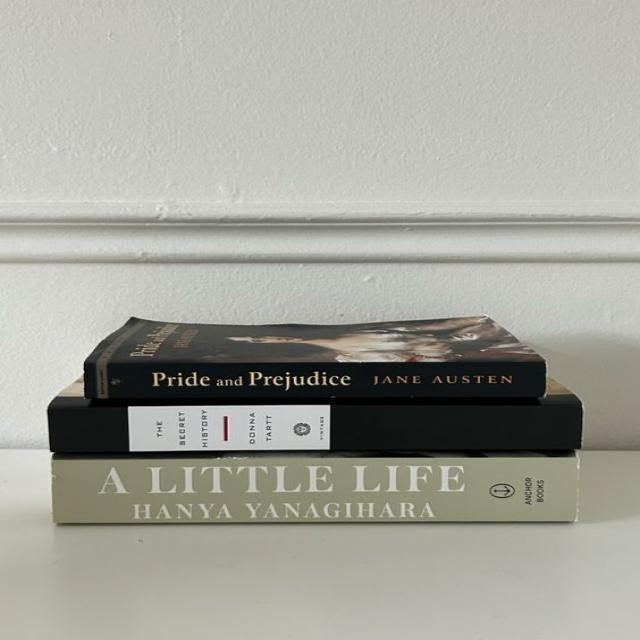book: (52, 458, 579, 524), (49, 407, 583, 454), (85, 362, 545, 396)
